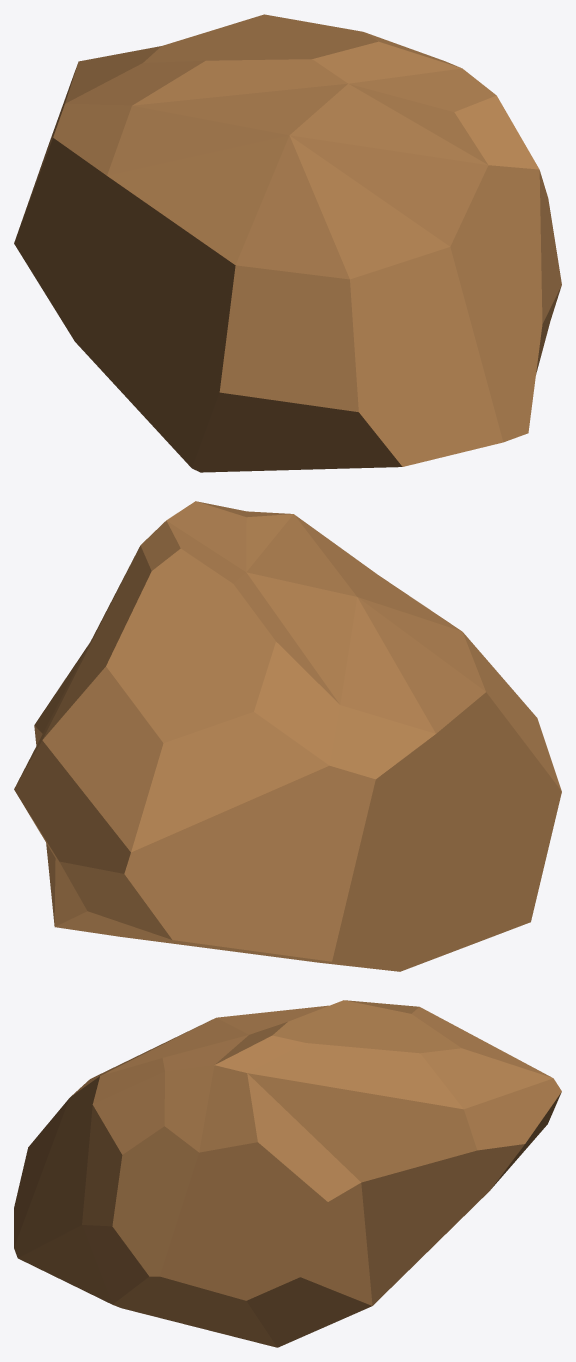
File: Rocher_1.fbx
3 renders of one model, top to bottom at view 1: azimuth 30°, elevation 25°; view 2: azimuth 150°, elevation 25°; view 3: azimuth 270°, elevation 25°, orthographic. The views are drawn at different scales.
Visible parts, largest first — view 1: Cube.002; view 2: Cube.002; view 3: Cube.002.
Part boxes in pixels (bbox=[...]): Cube.002: bbox=[14, 14, 561, 472]; Cube.002: bbox=[14, 501, 561, 971]; Cube.002: bbox=[14, 1000, 561, 1347].
Size of the model in its own units: 232 by 227 by 386.
